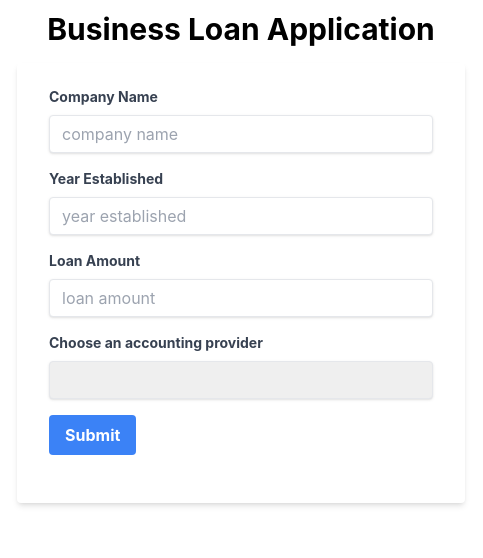
it: LoanApp › should show success message when form is submitted successfully
The image size is (483, 558).
Type "Test Company" into the field labelled "Company Name".
click(241, 134); type("Test Company")  # box [49, 115, 433, 153]
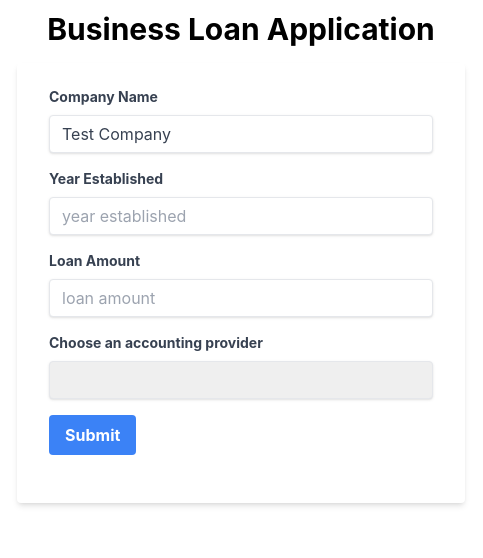
Type "2020" into the field labelled "Year Established".
click(241, 216); type("2020")  # box [49, 197, 433, 235]
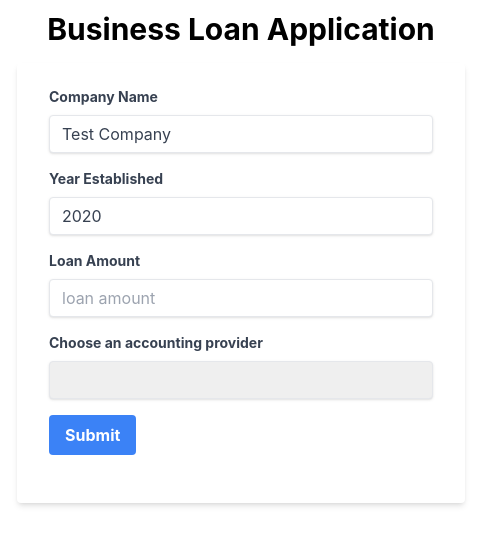
Type "100000" into the number field labelled "Loan Amount".
click(241, 298); type("100000")  # box [49, 279, 433, 317]
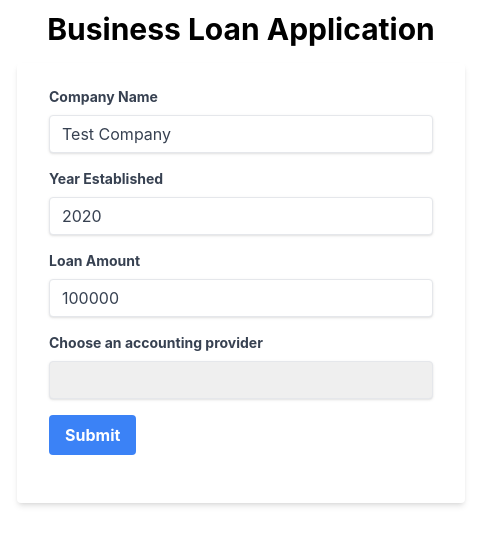
Select "Test Provider" in the dropdown labelled "Choose an accounting provider" at {"x": 241, "y": 380}, box [49, 361, 433, 399]
Click the button "Submit".
click(93, 435)  # box [49, 415, 136, 455]
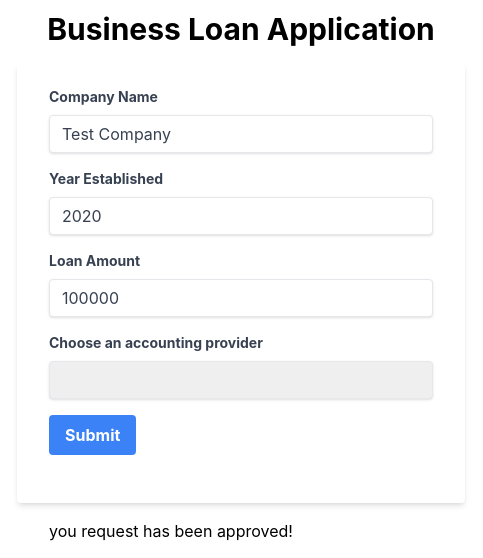
Now the text "you request has been approved!" is shown, box [49, 521, 293, 541]
